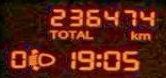0: (101, 48, 121, 71), (9, 48, 26, 69)
1: (68, 49, 75, 71)
2: (48, 5, 65, 26)
3: (68, 7, 83, 26)
4: (138, 9, 156, 26), (103, 9, 119, 26)
5: (122, 48, 140, 71)
6: (86, 8, 101, 27)
7: (122, 7, 137, 25)
9: (77, 48, 93, 71)
X: (137, 32, 150, 40), (57, 29, 67, 38), (129, 29, 138, 39), (95, 51, 100, 68), (75, 29, 84, 38), (48, 29, 57, 38), (67, 29, 75, 38), (85, 29, 92, 39)
